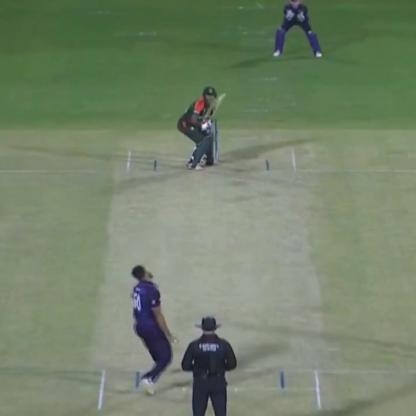bat: (198, 80, 230, 130)
pitch: (99, 150, 322, 408)
